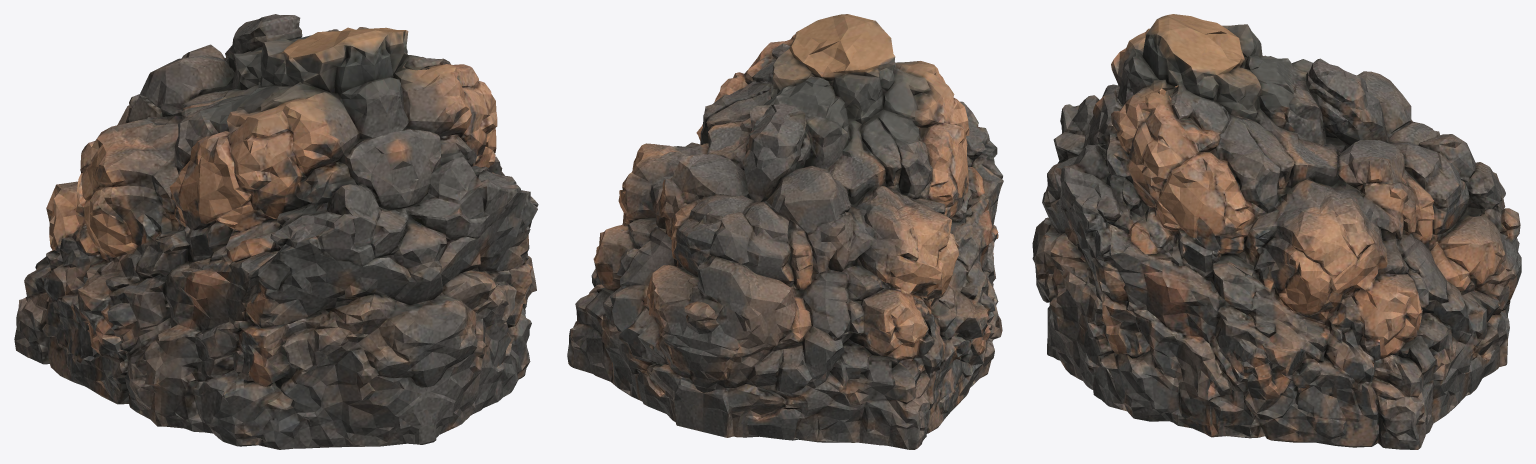
File: copper_resource.glb
The picture shows the model from 3 angles, left to right: view 1: azimuth 30°, elevation 25°; view 2: azimuth 150°, elevation 25°; view 3: azimuth 270°, elevation 25°; orthographic projection. The views are drawn at different scales.
Visible parts, largest first — view 1: tripo_node_e1aef4db-822b-417c-b58b-f8d3d5390826; view 2: tripo_node_e1aef4db-822b-417c-b58b-f8d3d5390826; view 3: tripo_node_e1aef4db-822b-417c-b58b-f8d3d5390826.
Boxes of the visible parts, box(x1,y1,x2,y2) form: tripo_node_e1aef4db-822b-417c-b58b-f8d3d5390826: box(14, 14, 538, 449); tripo_node_e1aef4db-822b-417c-b58b-f8d3d5390826: box(567, 14, 1003, 449); tripo_node_e1aef4db-822b-417c-b58b-f8d3d5390826: box(1032, 14, 1521, 449).
Size of the model in its own units: 0.9335 by 0.7554 by 1.
1 material, 1 textured.
